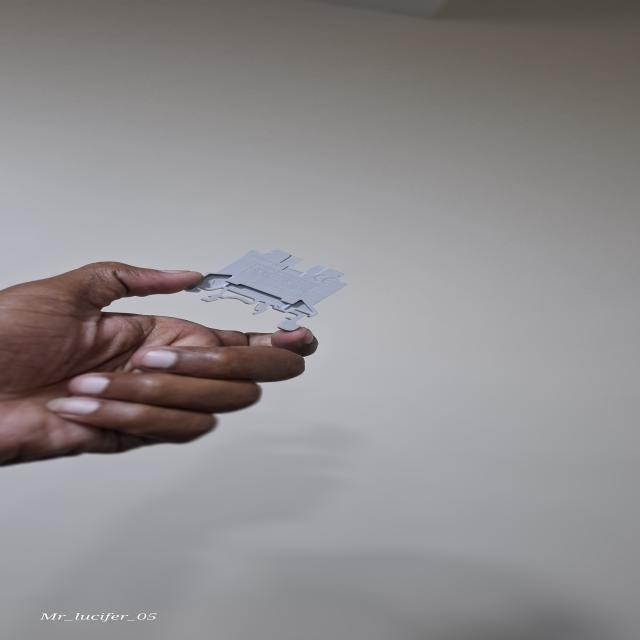Inverted: (182, 248, 348, 331)
